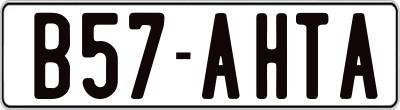5: (79, 11, 119, 103)
7: (127, 10, 163, 97)
A: (199, 11, 241, 102), (340, 11, 382, 97)
B: (31, 13, 70, 101)
H: (253, 10, 284, 100)
T: (294, 10, 329, 102)
